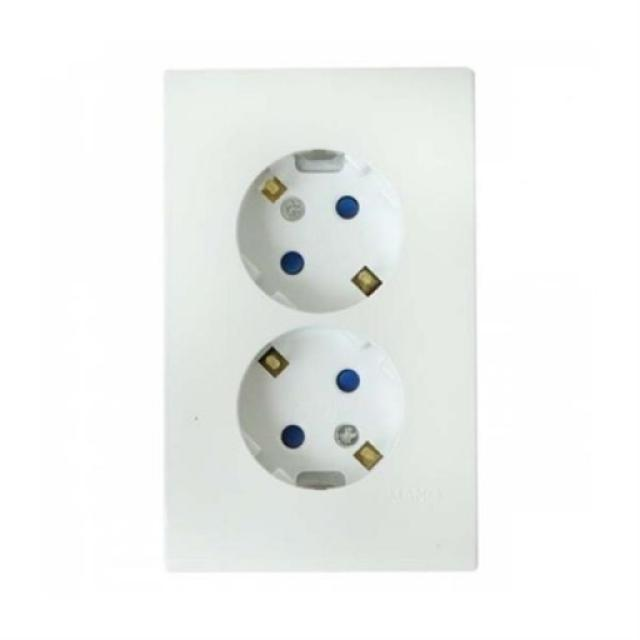typeb: (138, 61, 502, 584)
